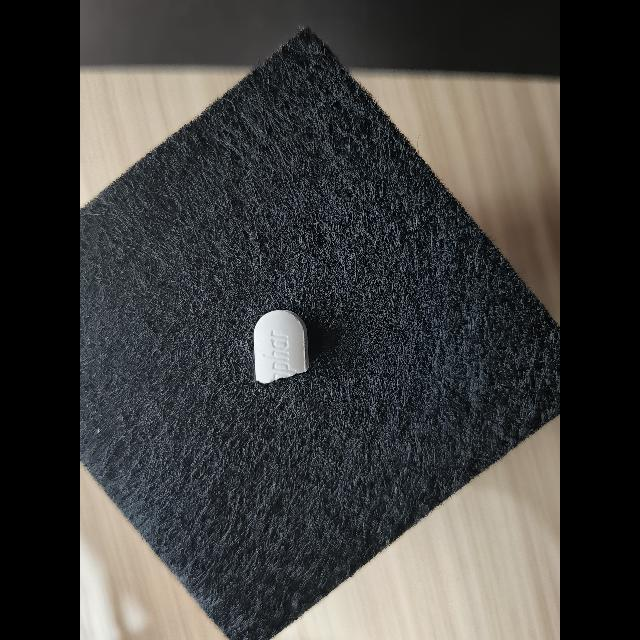Chipped Pill: (254, 310, 309, 384)
